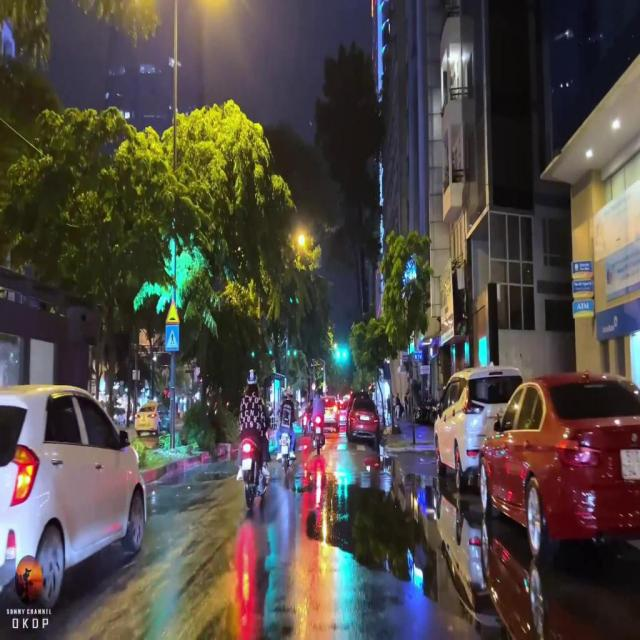duong_co_song_map_mo_nhan_tao: (165, 298, 180, 324)
duong_nguoi_di_bo_sang_ngang: (165, 326, 178, 351)
